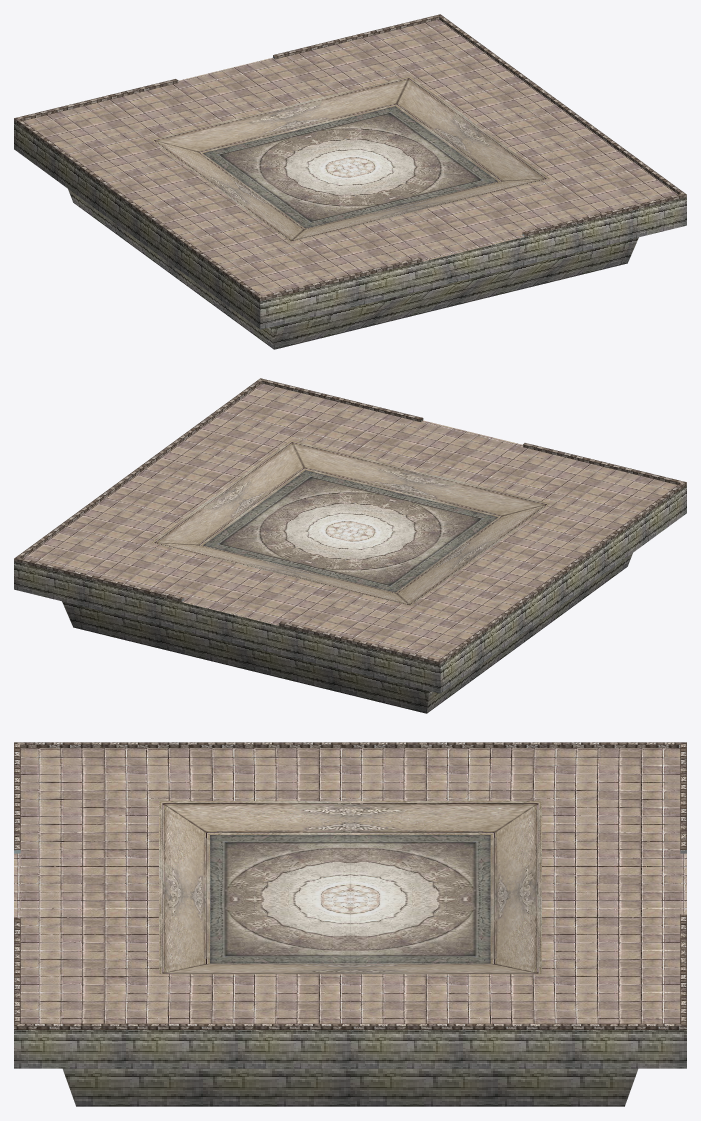
Rendered from dataizi2.FBX.
3 renders of one model, top to bottom at view 1: azimuth 30°, elevation 25°; view 2: azimuth 150°, elevation 25°; view 3: azimuth 270°, elevation 25°, orthographic. The views are drawn at different scales.
Parts seen in each view (by area): view 1: flat_roofR69; view 2: flat_roofR69; view 3: flat_roofR69.
Part boxes in pixels (x1=…): flat_roofR69: x1=14, y1=14, x2=686, y2=349; flat_roofR69: x1=14, y1=378, x2=686, y2=713; flat_roofR69: x1=14, y1=742, x2=686, y2=1106.
Bounding box in the file's own units: 509 × 87.38 × 509.
